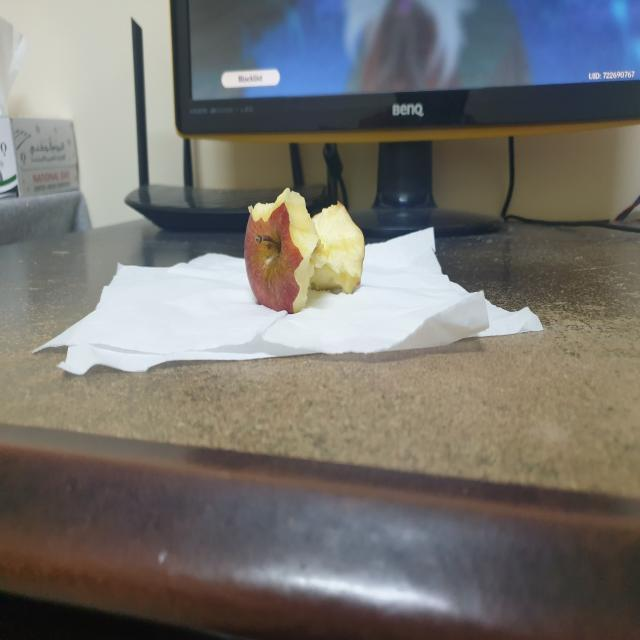apple: (236, 178, 377, 317)
